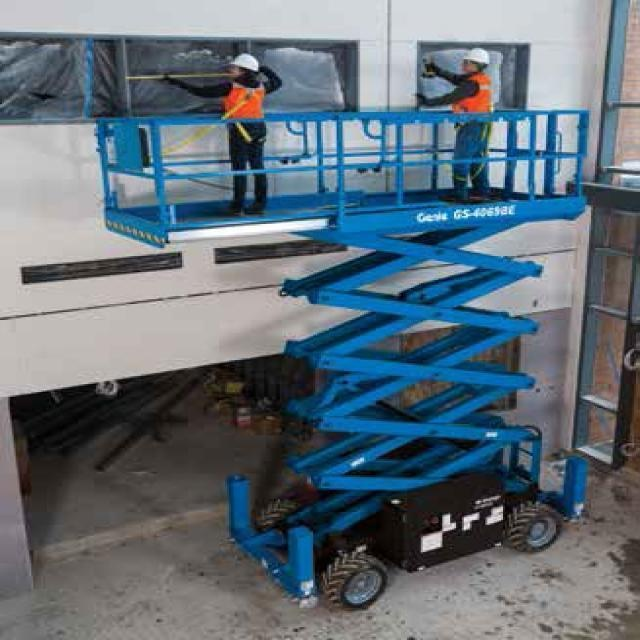Arnes_seguridad: (231, 79, 267, 145), (454, 107, 491, 154)
